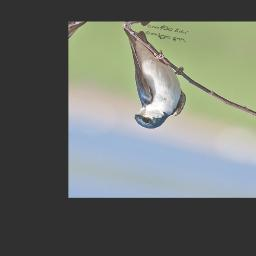Swallow: (99, 26, 202, 135)
